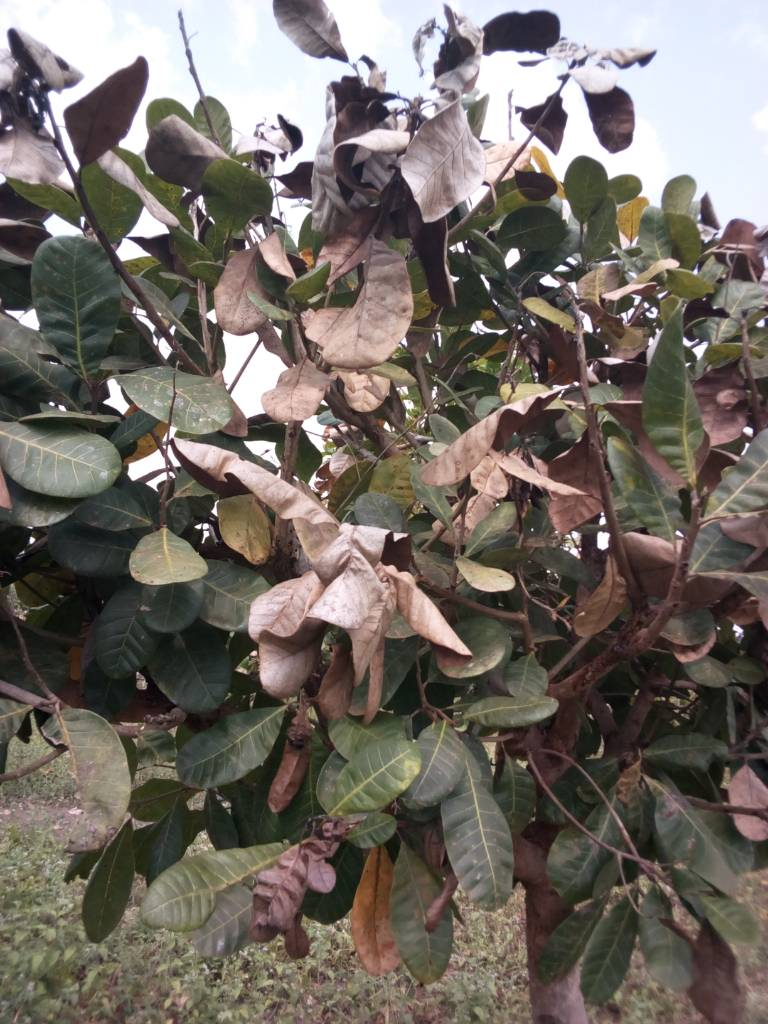Dessèchement des bourgeons: (258, 803, 362, 937), (1, 35, 84, 186), (419, 10, 489, 98)
